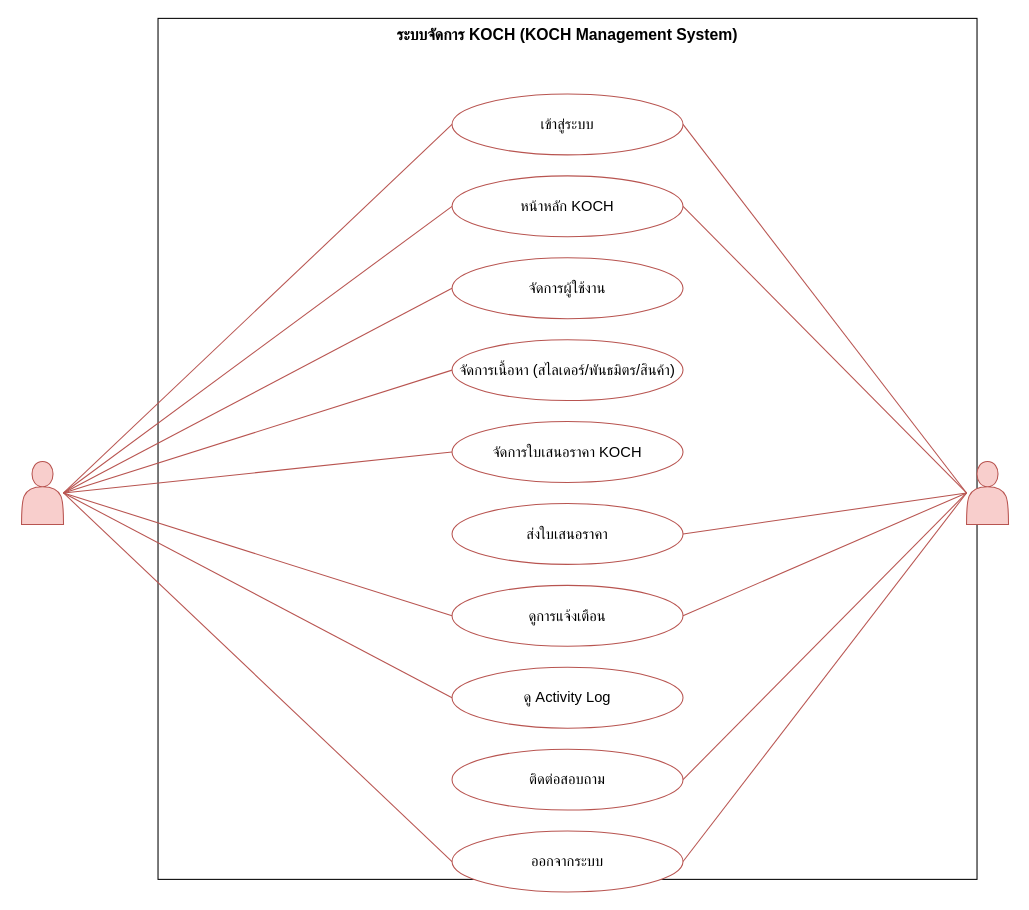
Some shapes in this 1029 by 910 pixel diagram are drawn without their labels. Here are the shapes that lost their labels. From the top down, the centre of each, then its label:
At point (42, 492): "Admin".
At point (987, 492): "KOCH User".
